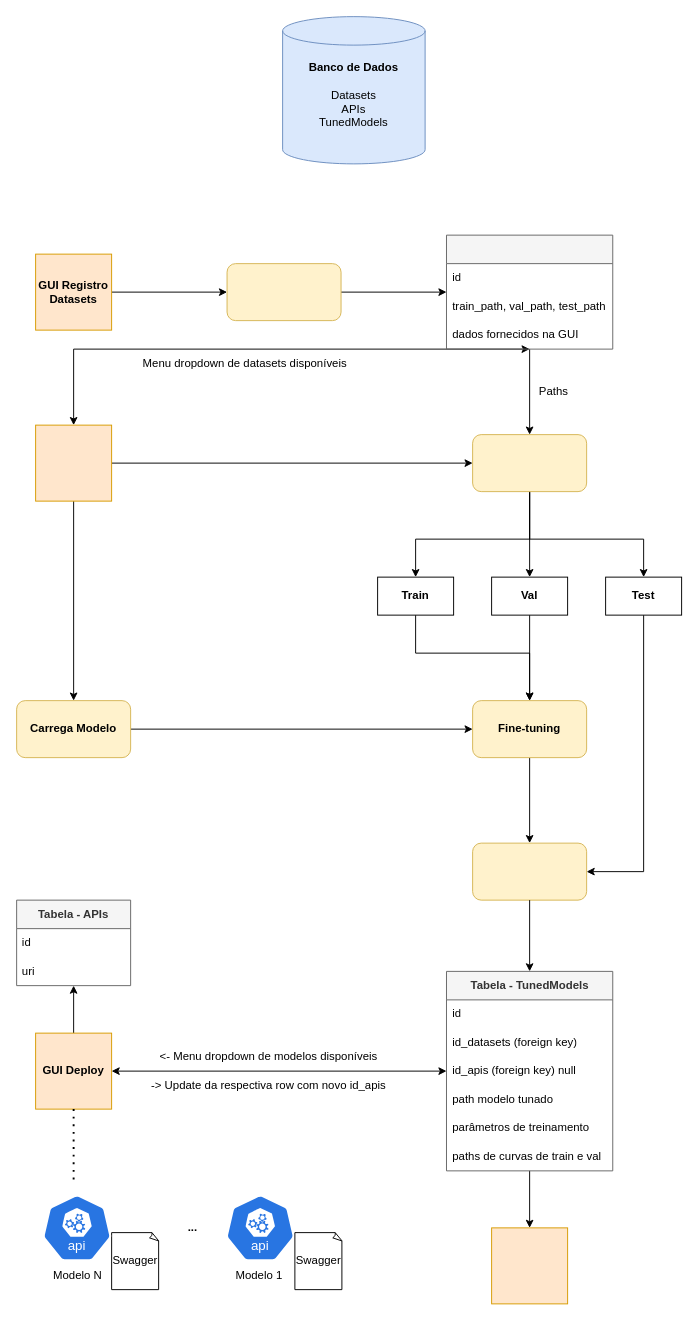
The diagram is 698 pixels wide and 1321 high, and some of its shapes have lost their labels. The box of each missing label's shape, as (x1, y1, x2, y2) in pixels:
Carrega Datasets: (472, 434, 587, 492)
Eval: (472, 842, 587, 900)
GUI Dashboard: (491, 1227, 568, 1304)
GUI Fine-tuning: (35, 424, 112, 501)
Pré-processamento - split train/val/test: (226, 263, 341, 321)
Tabela - Datasets: (446, 234, 613, 349)
